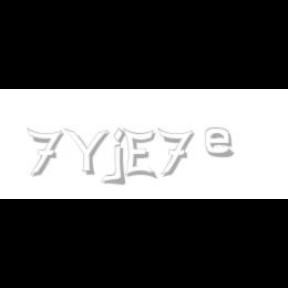7: (26, 128, 64, 178), (158, 128, 195, 178)
E: (124, 128, 156, 180)
Y: (63, 128, 109, 176)
e: (206, 128, 238, 158)
j: (110, 128, 140, 186)
